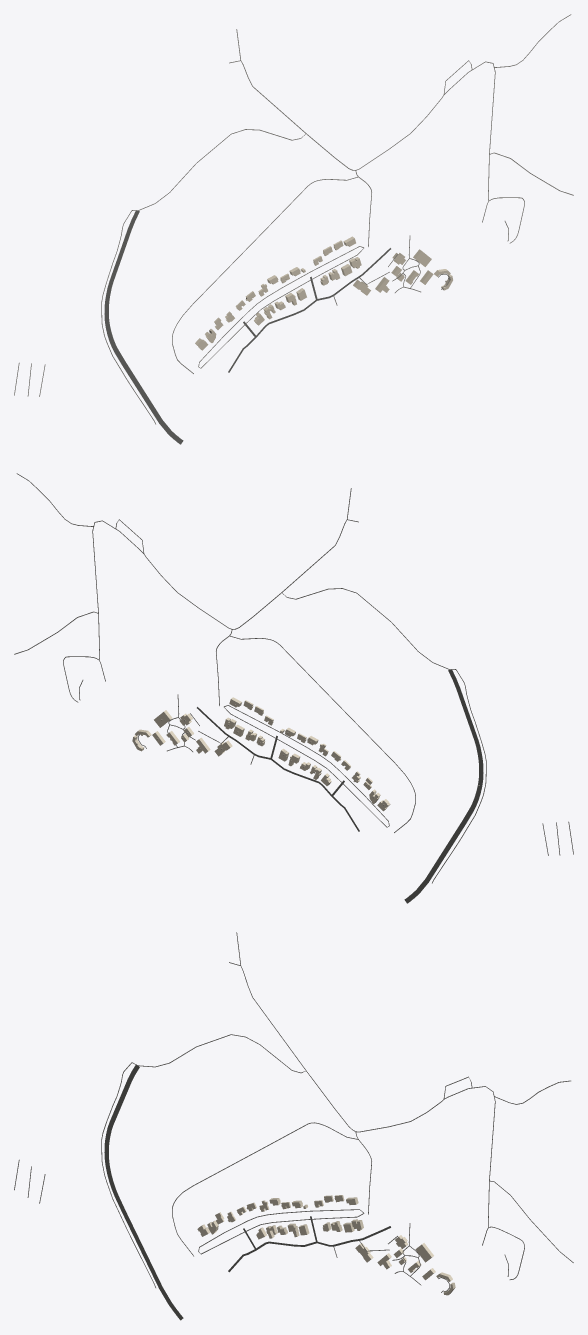
Rendered from historic-palestine-14_30_3555_3246.glb.
The picture shows the model from 3 angles, top to bottom: view 1: azimuth 30°, elevation 25°; view 2: azimuth 150°, elevation 25°; view 3: azimuth 330°, elevation 25°; orthographic projection.
Visible parts, largest first — view 1: Road 6688; view 2: Road 6688; view 3: Road 6688.
Part boxes in pixels (bbox=[...]): Road 6688: bbox=[104, 210, 183, 444]; Road 6688: bbox=[404, 669, 483, 903]; Road 6688: bbox=[104, 1064, 183, 1320].
Bounding box in the file's own units: 1022 × 701 × 8.7.
